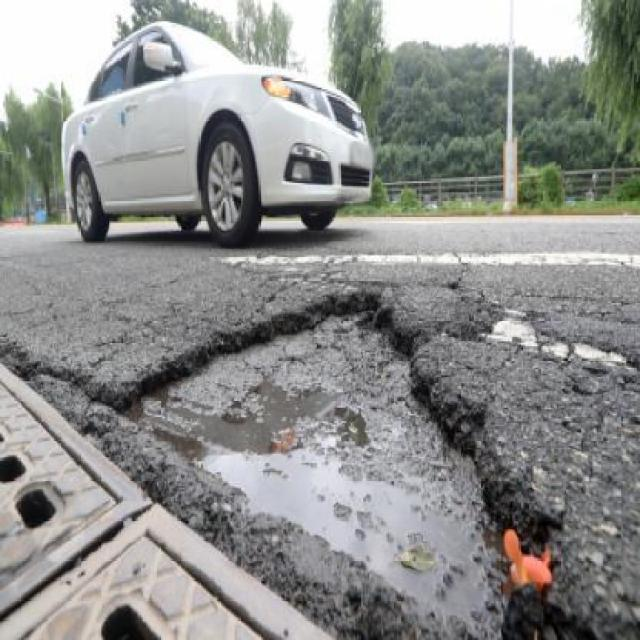Pothole: (110, 276, 542, 638)
